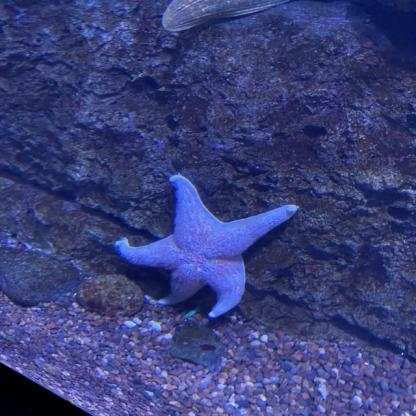starfish: (114, 175, 297, 318)
